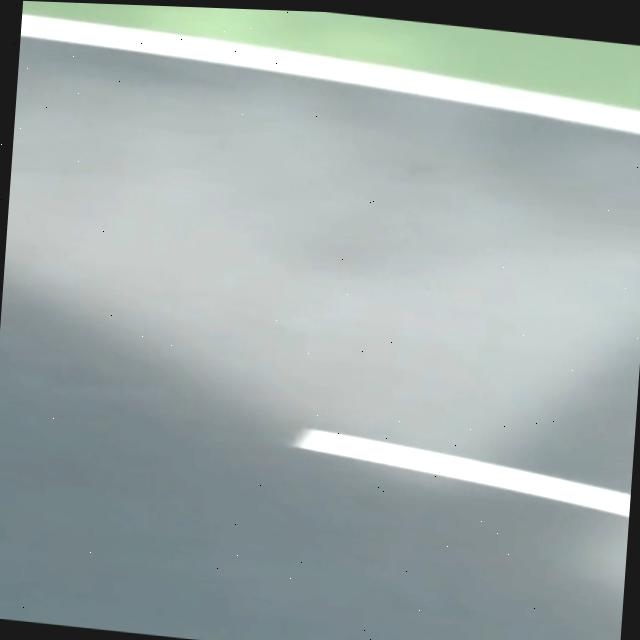center: (292, 430, 630, 518)
right: (19, 14, 640, 135)
